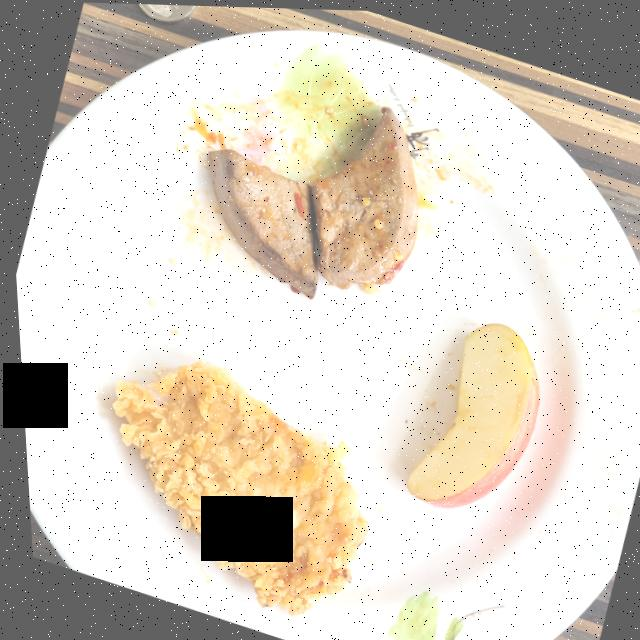apple -sliced-: (400, 320, 534, 505)
coin: (138, 3, 195, 21)
fried chicken cutlet: (107, 359, 361, 613)
pig liver: (207, 104, 416, 296)
